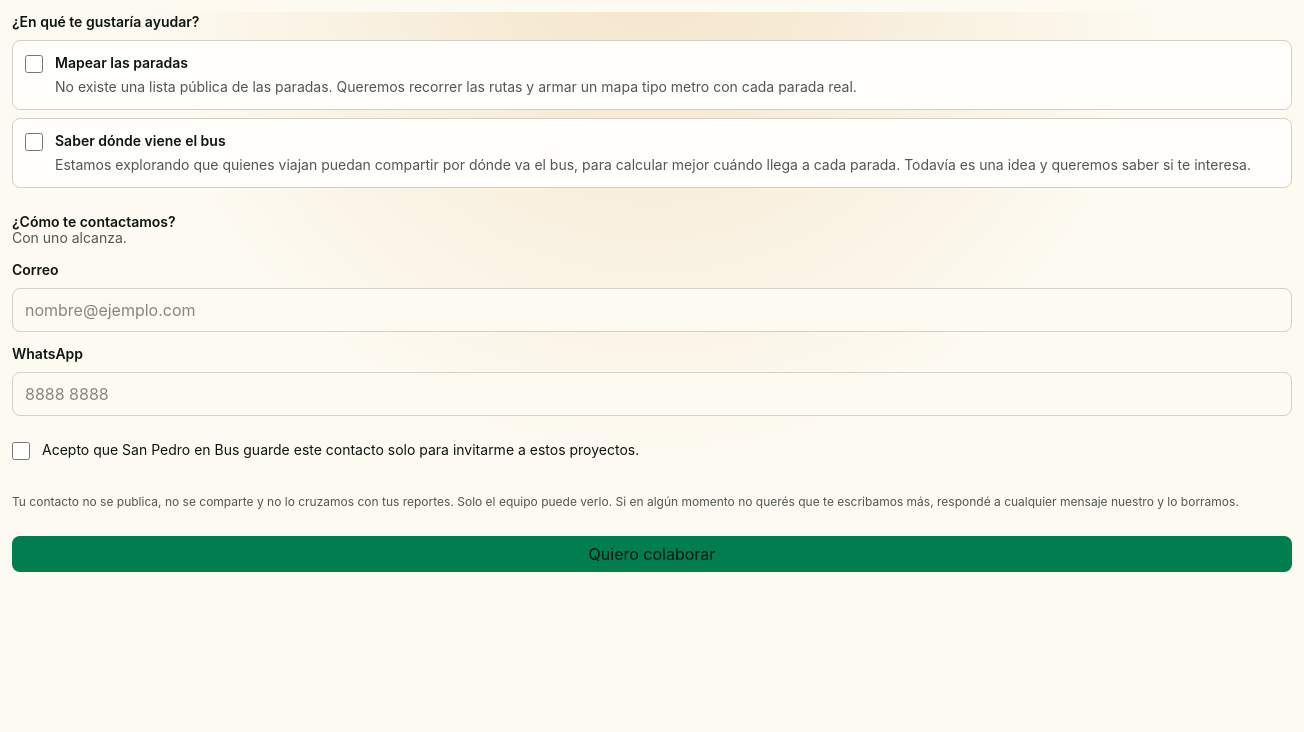
it: CollaborateForm › shows every missing-field error beside its field, focuses the first, and sends nothing
The image size is (1304, 732).
Click the button "Quiero colaborar" at (652, 554), box [12, 536, 1292, 572]
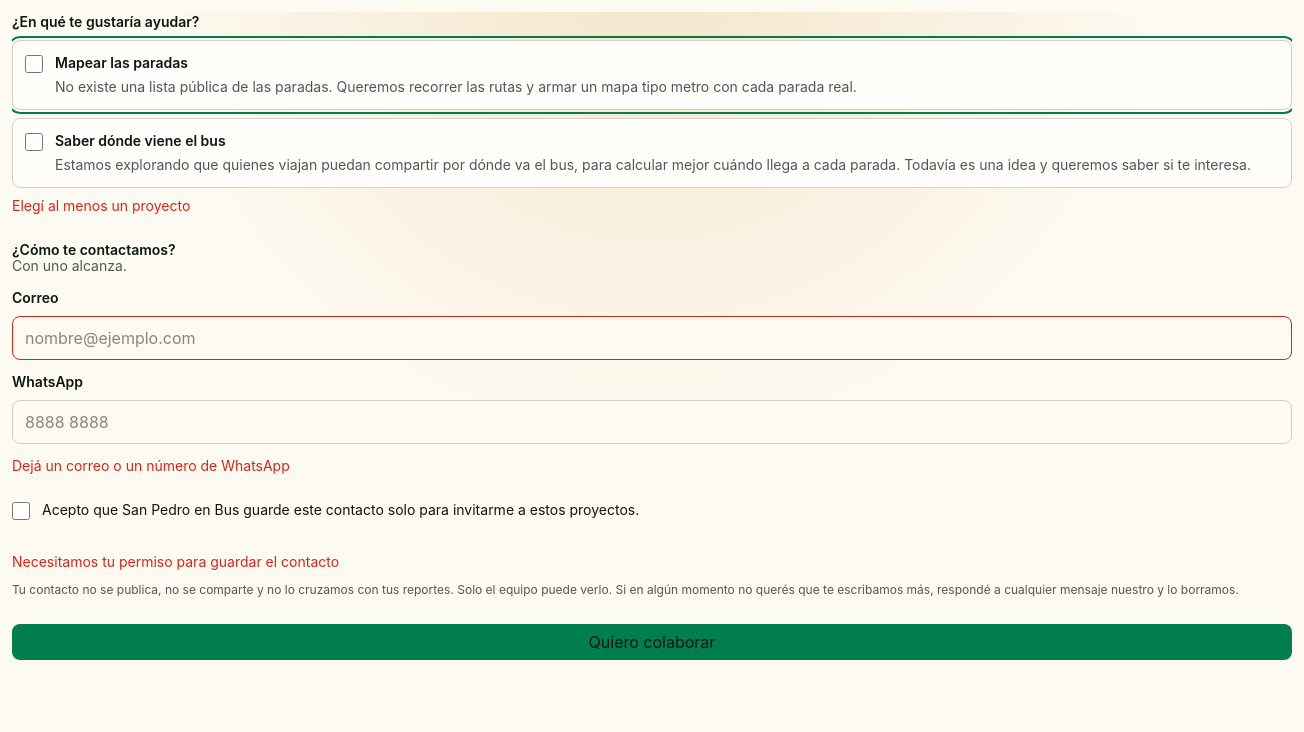
Now the text "Elegí al menos un proyecto" is shown, box [12, 197, 190, 214]
Now the text "Dejá un correo o un número de WhatsApp" is shown, box [12, 457, 290, 474]
Now the text "Necesitamos tu permiso para guardar el contacto" is shown, box [12, 553, 339, 570]
